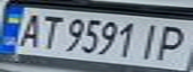1: (115, 19, 142, 58)
5: (78, 16, 103, 55)
9: (60, 15, 87, 53), (96, 19, 121, 57)
A: (12, 10, 48, 48)
I: (136, 20, 169, 61)
P: (151, 22, 193, 63)
T: (33, 12, 66, 51)
